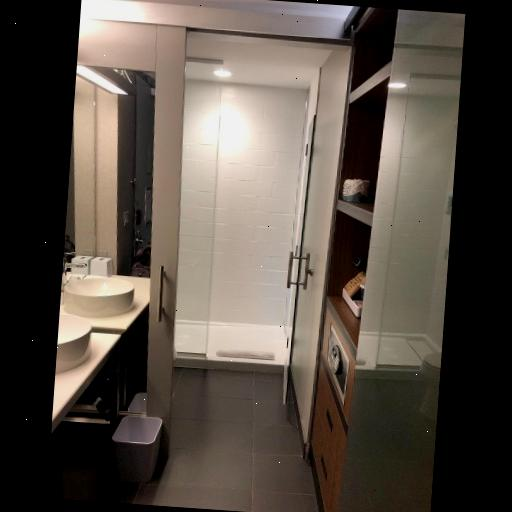clean shower: (159, 28, 318, 376)
clean_floor: (149, 366, 319, 512)
clean_sink: (49, 263, 155, 435)
